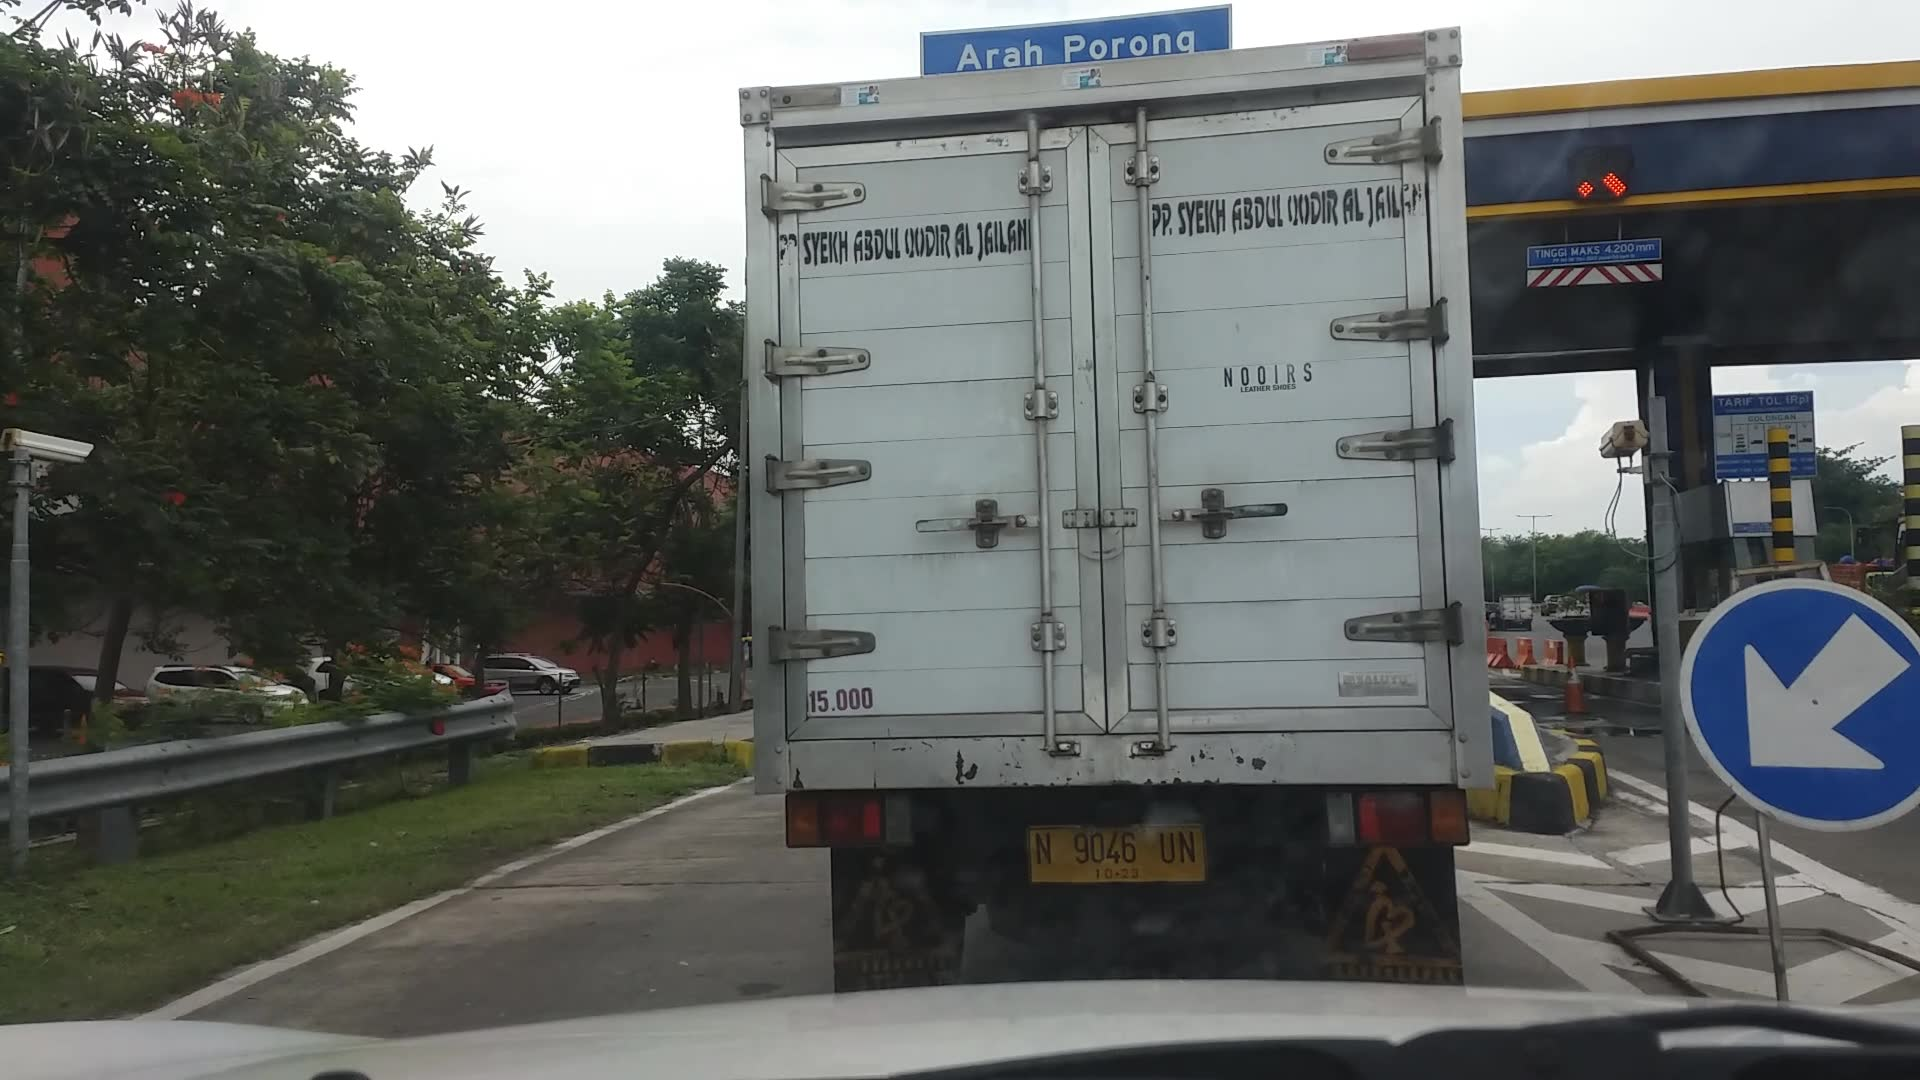plate_positive: (1026, 824, 1207, 884)
